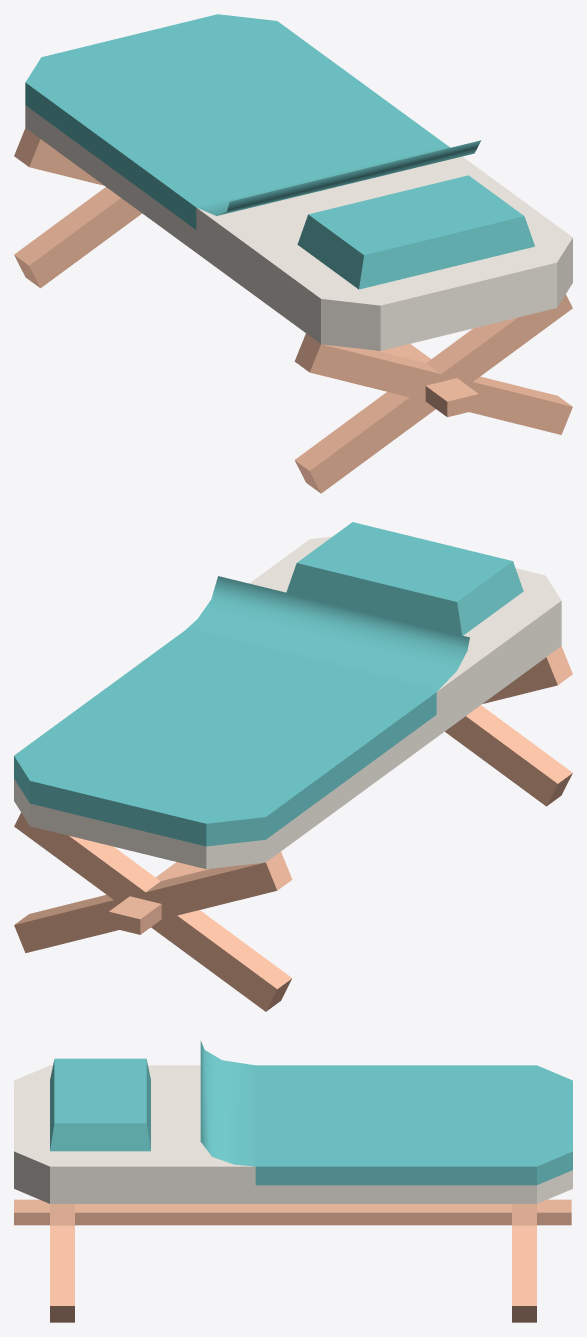
File: bed.glb
The picture shows the model from 3 angles, top to bottom: view 1: azimuth 30°, elevation 25°; view 2: azimuth 150°, elevation 25°; view 3: azimuth 270°, elevation 25°; orthographic projection. The views are drawn at different scales.
Parts seen in each view (by area): view 1: bed; view 2: bed; view 3: bed.
Boxes of the visible parts, <box> form: bed: <box>14,14,572,493</box>; bed: <box>14,522,572,1011</box>; bed: <box>14,1041,572,1322</box>.
Size of the model in its own units: 0.3349 by 0.2737 by 0.7473.
